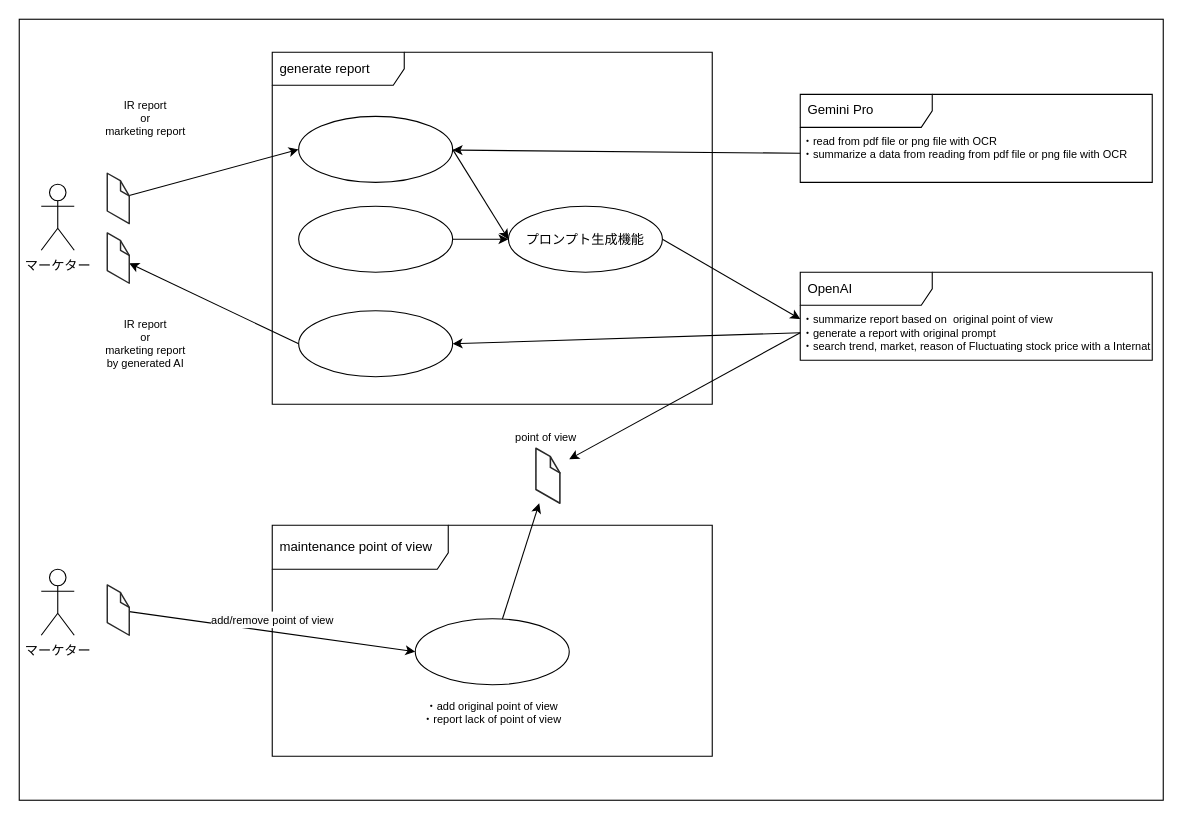
This 1183x820 diagram has some shape labels left out. Each missing label, with the centre of its shape:
方針提案生成機能: pixel 375 343
株価取得機能: pixel 375 238
観点リストメンテ機能: pixel 491 651
資料要約機能: pixel 375 148
